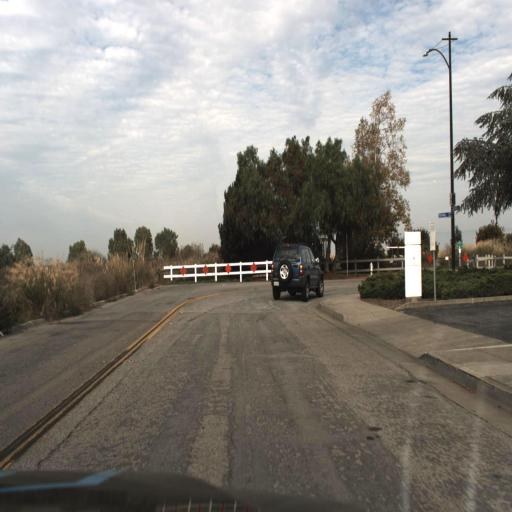car: (269, 241, 329, 295)
